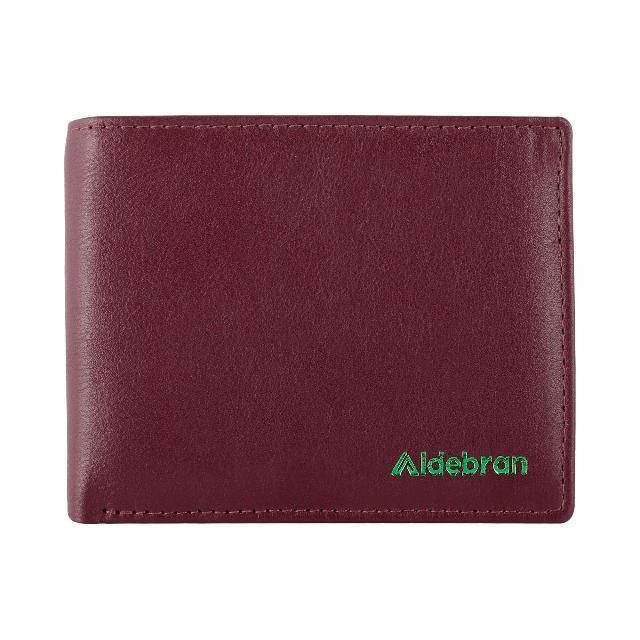wallet: (61, 111, 576, 529)
